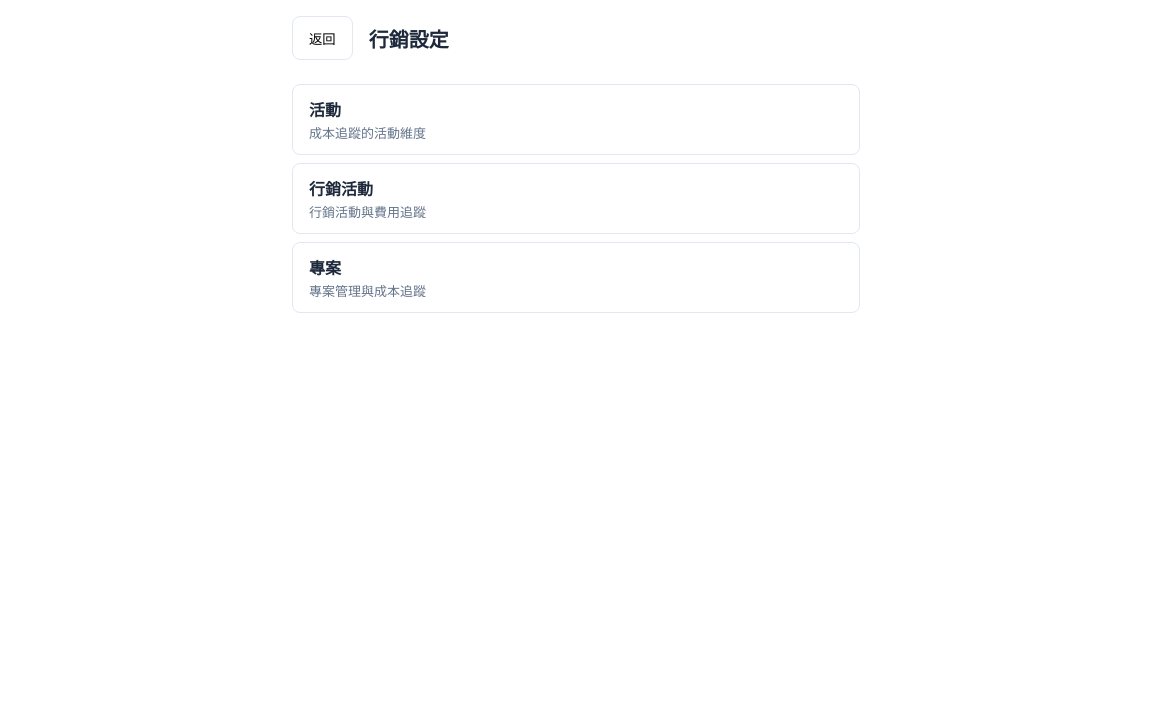
DimensionDataView › displays record list after selecting a table
The width and height of the screenshot is (1152, 720).
Click the element with class "table-card" showing "活動 成本追蹤的活動維度" at (576, 120), box [292,84,860,155]
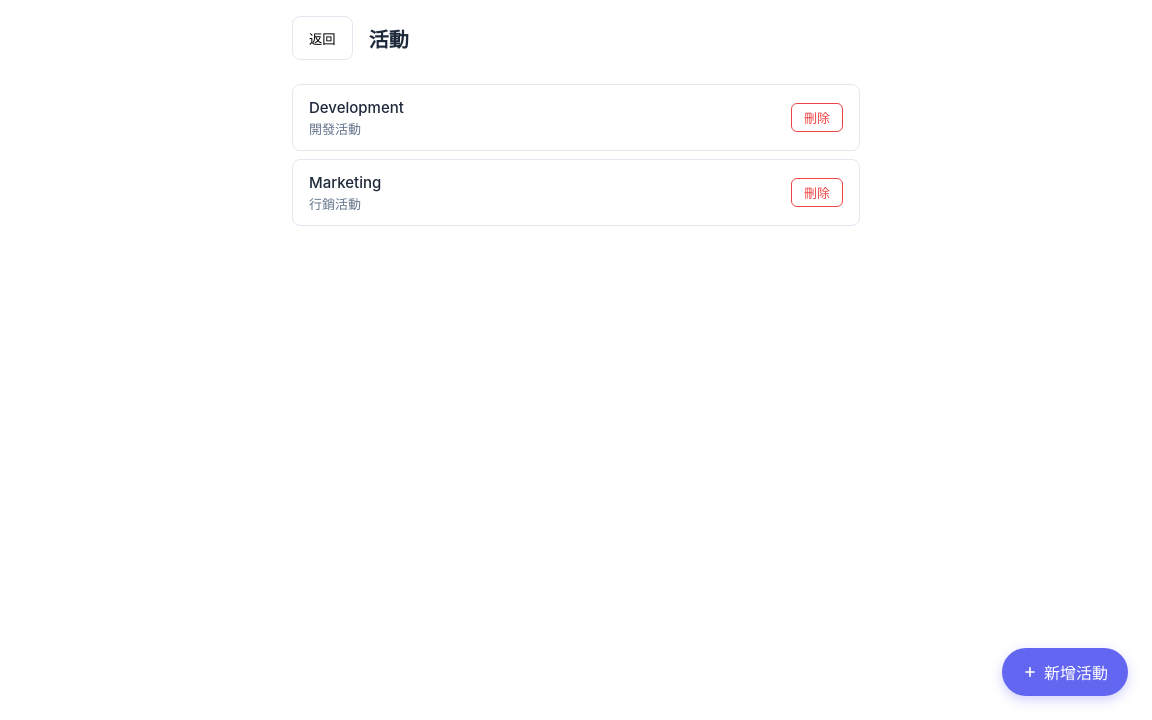
Result: the number of elements with class "data-row" is 2 at [292,84,860,151]; [292,159,860,226]
Result: the element with class "data-row" shows "Development" at [309,98,404,117]
Result: the element with class "data-row" shows "Marketing" at [309,173,381,192]
